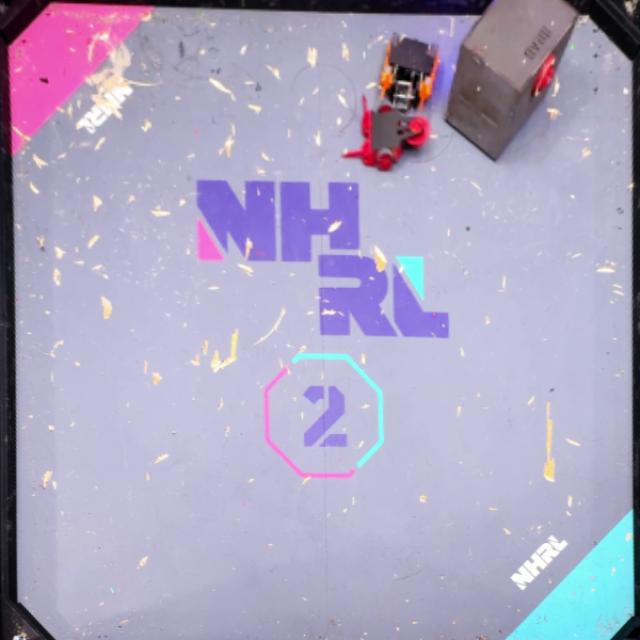housebot: (445, 0, 577, 160)
robot: (340, 94, 429, 171), (378, 31, 441, 110)
